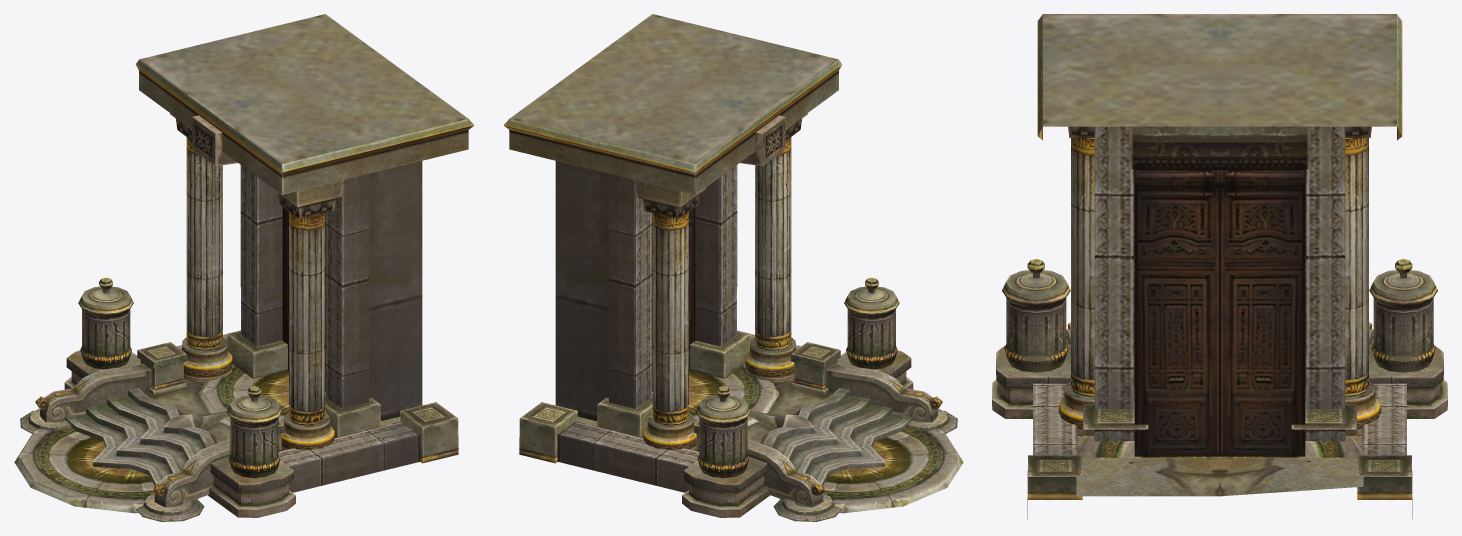
The model's file is f_1001_door.FBX.
The picture shows the model from 3 angles, left to right: view 1: azimuth 30°, elevation 25°; view 2: azimuth 150°, elevation 25°; view 3: azimuth 270°, elevation 25°; orthographic projection. The views are drawn at different scales.
Parts seen in each view (by area): view 1: Box006; view 2: Box006; view 3: Box006.
Boxes of the visible parts, x1=… form: Box006: x1=14, y1=14, x2=474, y2=521; Box006: x1=503, y1=14, x2=963, y2=521; Box006: x1=992, y1=14, x2=1447, y2=518.
Size of the model in its own units: 2157 by 1848 by 1858.
